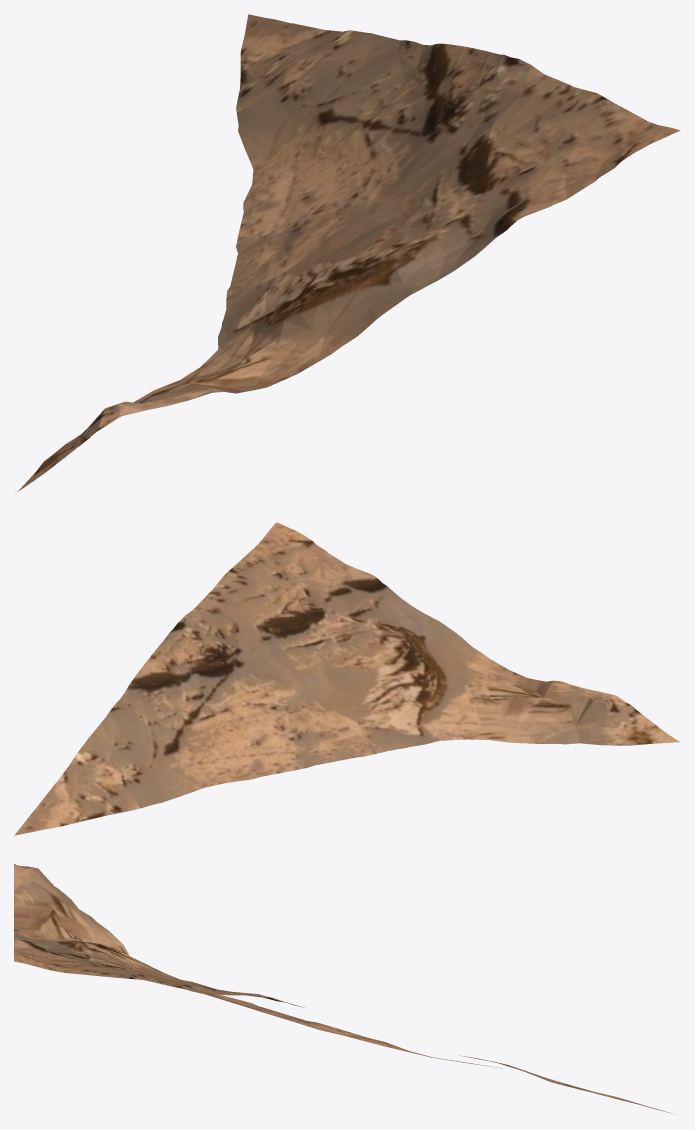
3 views of the same model, one above another, from view 1: azimuth 30°, elevation 25°; view 2: azimuth 150°, elevation 25°; view 3: azimuth 270°, elevation 25° (orthographic). The views are drawn at different scales.
Bounding box in the file's own units: 1.25 × 0.3582 × 1.4.
1 material, 1 textured.
